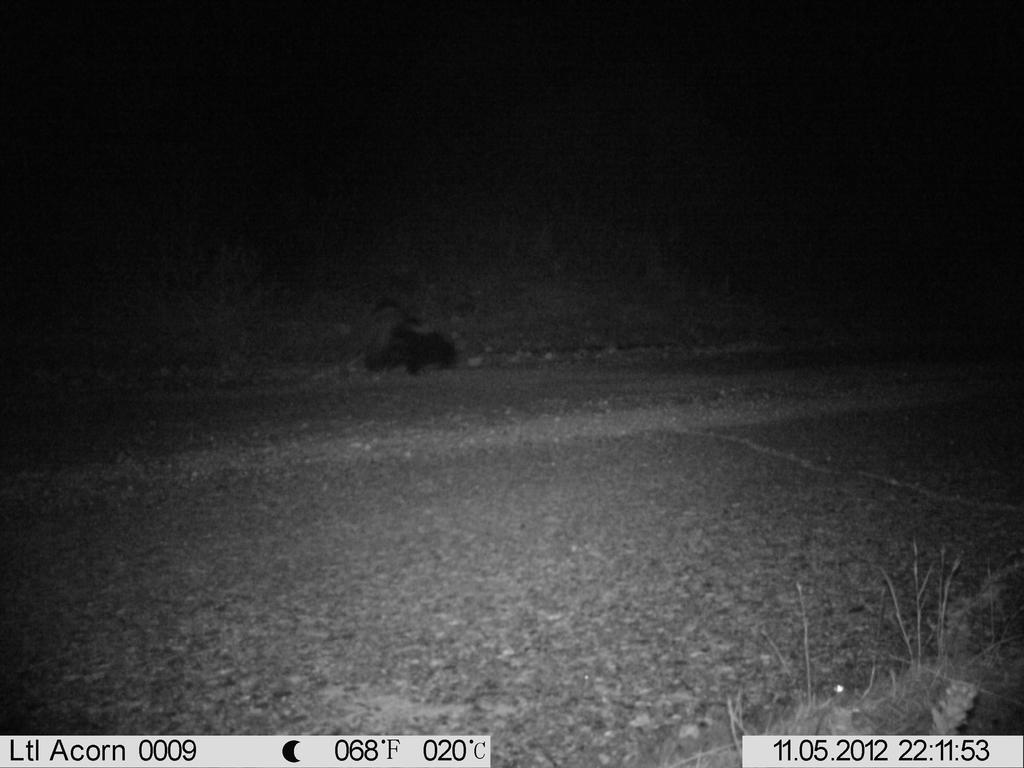skunk: (353, 310, 464, 381)
